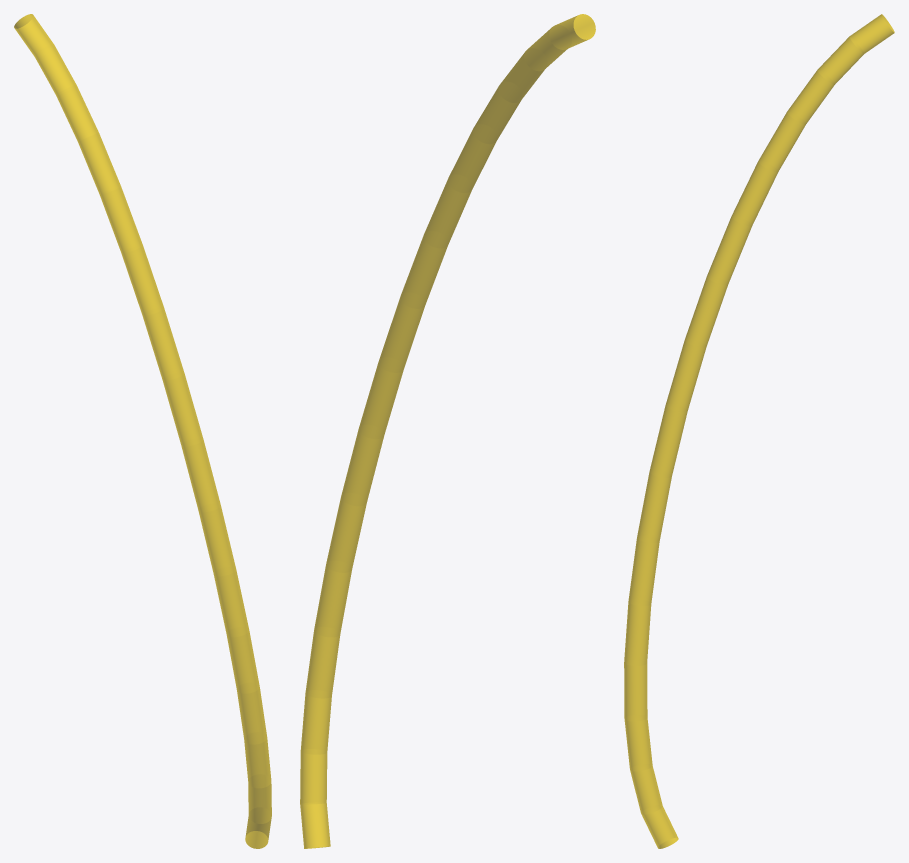
Rendered from Event_17758602_track_123.fbx.
3 renders of one model, left to right at view 1: azimuth 30°, elevation 25°; view 2: azimuth 210°, elevation 25°; view 3: azimuth 270°, elevation 25°, orthographic. The views are drawn at different scales.
Visible parts, largest first — view 1: Model; view 2: Model; view 3: Model.
Part boxes in pixels (<box>): Model: <box>14,14,271,848</box>; Model: <box>300,14,595,848</box>; Model: <box>624,14,894,848</box>.
Size of the model in its own units: 0.282 by 1.48 by 0.4696.
